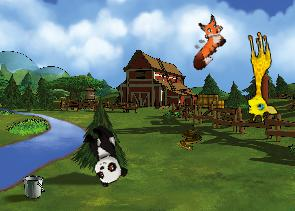fox: (175, 11, 235, 73)
giraffe: (236, 30, 279, 123)
panda: (78, 121, 130, 188)
